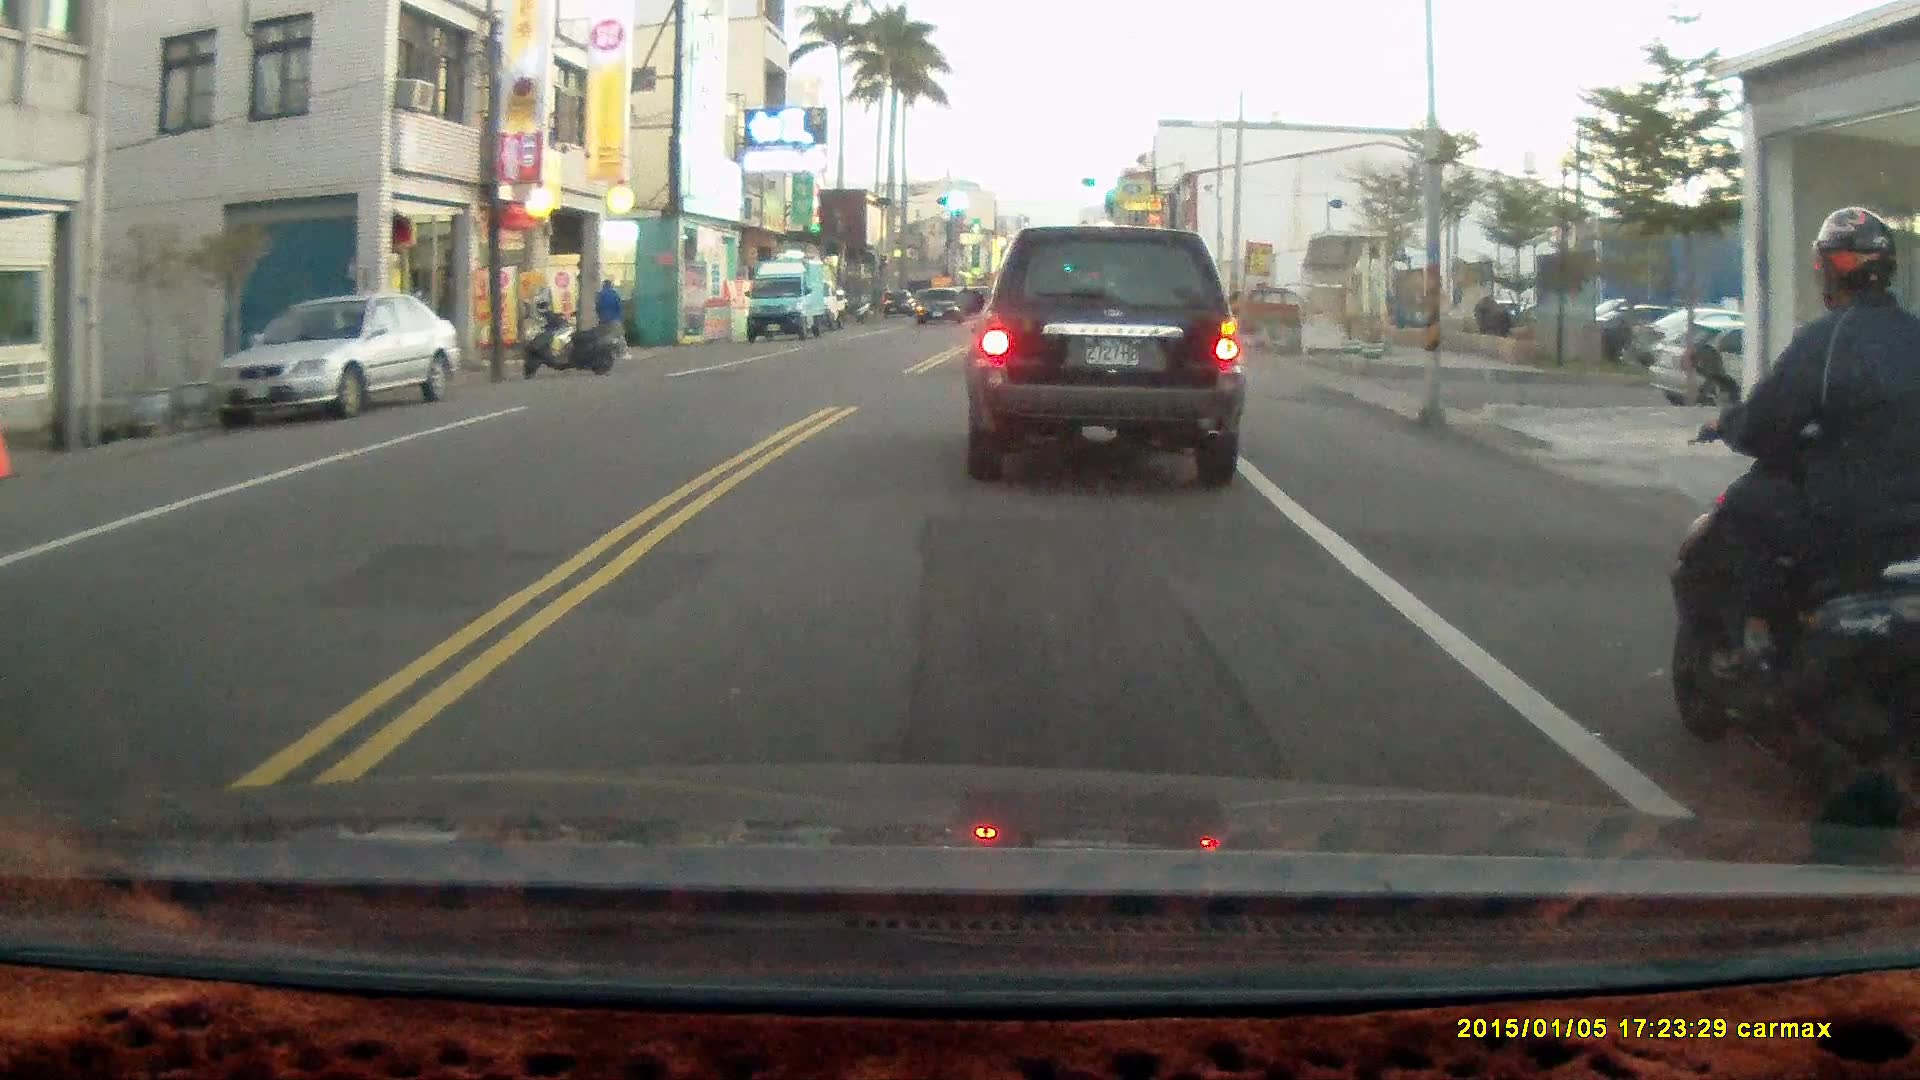pedestrian: (592, 276, 630, 364)
rider: (1661, 204, 1920, 866)
vehicle: (971, 226, 1249, 498), (219, 294, 458, 427), (1654, 323, 1878, 415), (746, 256, 827, 344), (915, 290, 970, 328)
